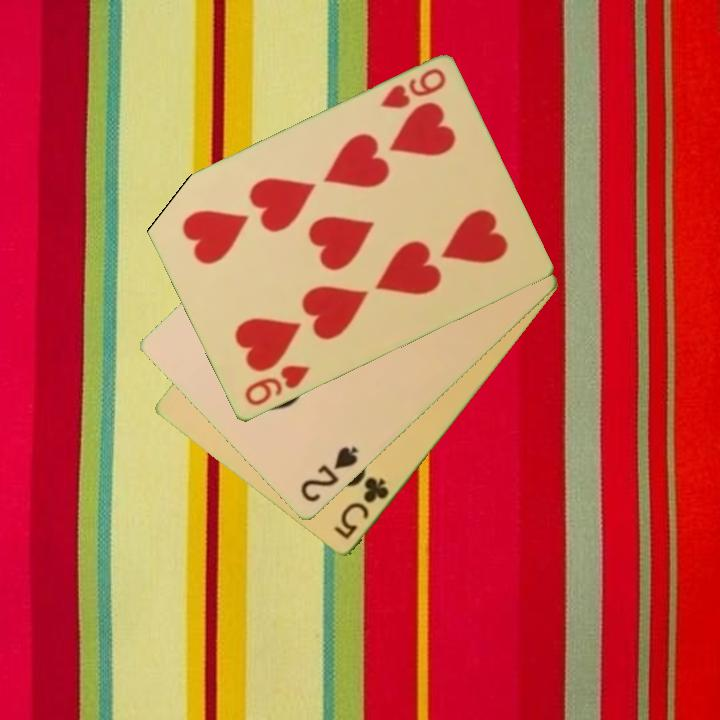2s: (297, 443, 361, 506)
5c: (330, 474, 392, 543)
9h: (240, 362, 313, 410), (376, 65, 449, 113)
